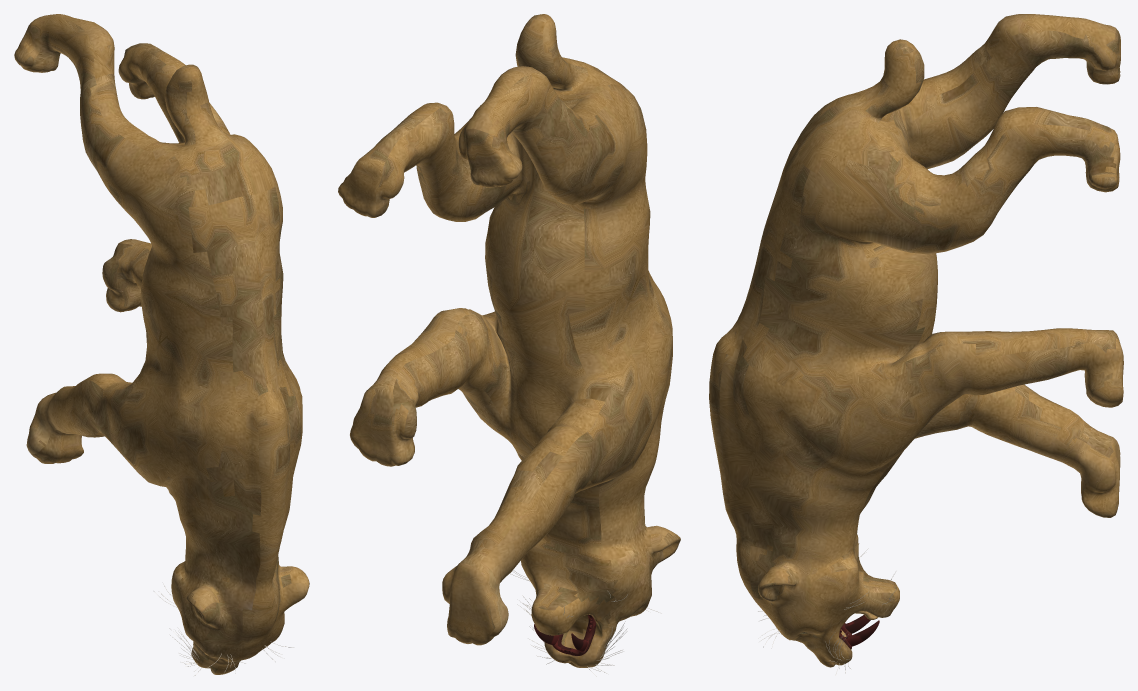
Rendered from tooth 1.fbx.
3 views of the same model, side by side, from view 1: azimuth 30°, elevation 25°; view 2: azimuth 150°, elevation 25°; view 3: azimuth 270°, elevation 25° (orthographic). The views are drawn at different scales.
Visible parts, largest first — view 1: 12230_smilodon_v1_l2; view 2: 12230_smilodon_v1_l2; view 3: 12230_smilodon_v1_l2.
Part boxes in pixels (box(x1,y1,x2,y2)): 12230_smilodon_v1_l2: box(14, 14, 309, 675); 12230_smilodon_v1_l2: box(338, 14, 680, 676); 12230_smilodon_v1_l2: box(709, 14, 1123, 675).
Bounding box in the file's own units: 4764 × 17464 × 10427.
4 materials, 3 textured.
